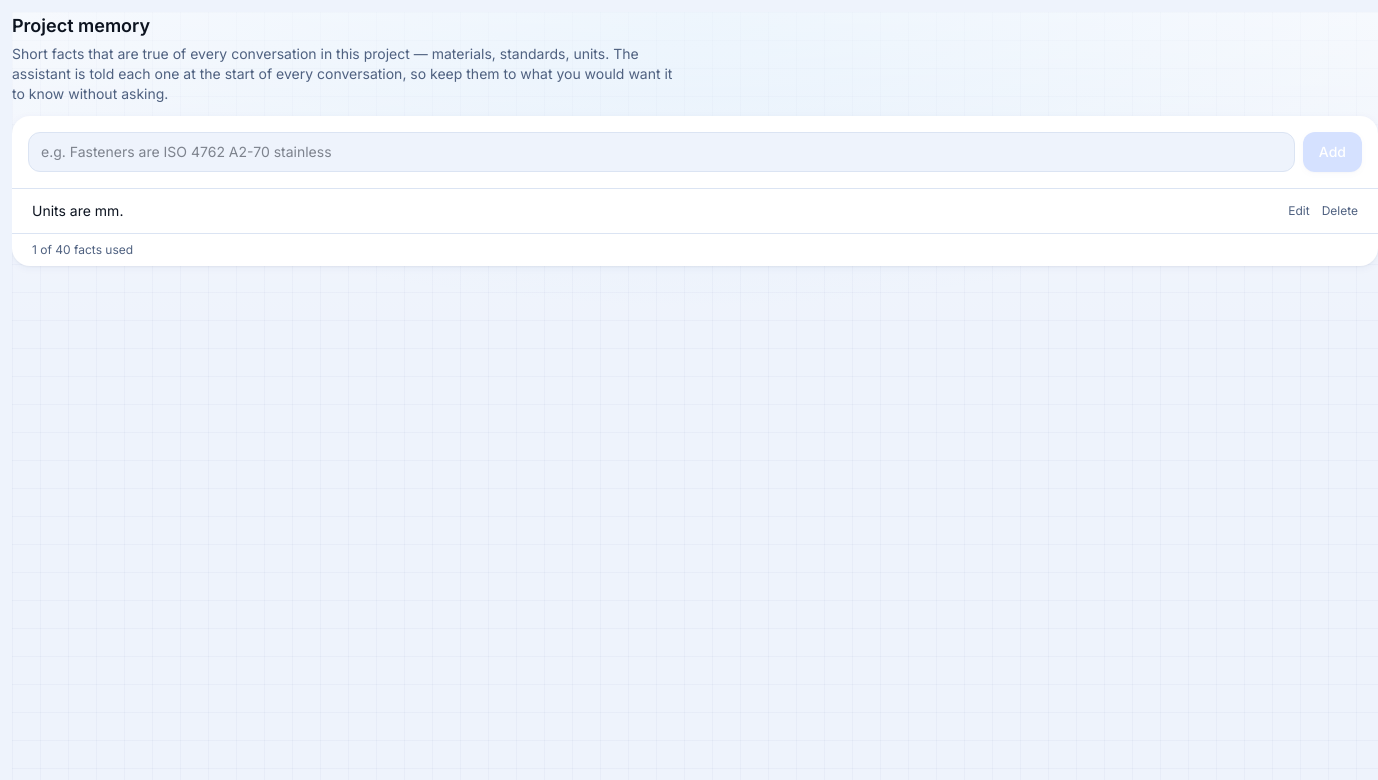
Test case: ProjectMemoryPanel › keeps what was typed and says why when the server refuses
Expected: the text "Units are mm." is shown, [32,202,123,219]
Type "One too many" into the field named "New project fact".
click(661, 152); type("One too many")  # box [28,132,1295,172]
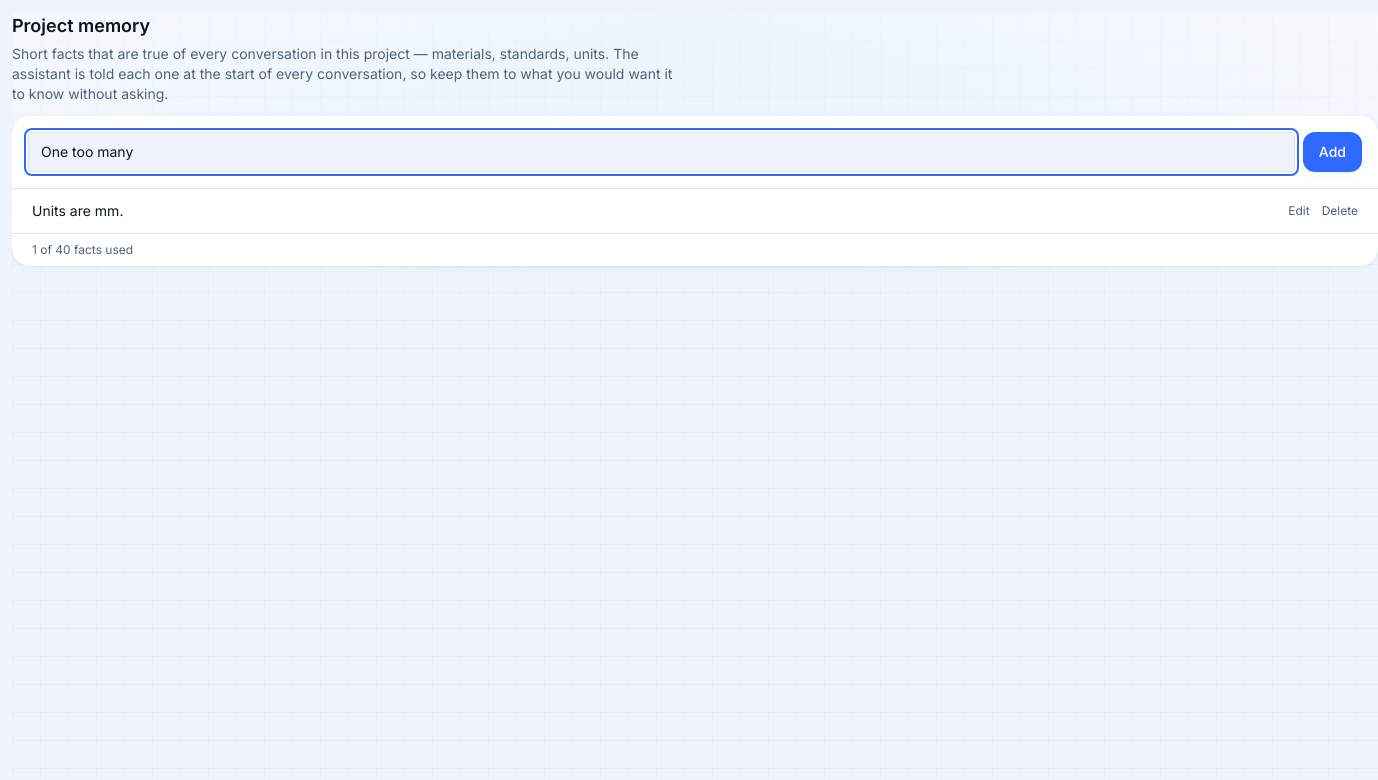
Click the button "Add".
click(1332, 152)  # box [1303,132,1362,172]
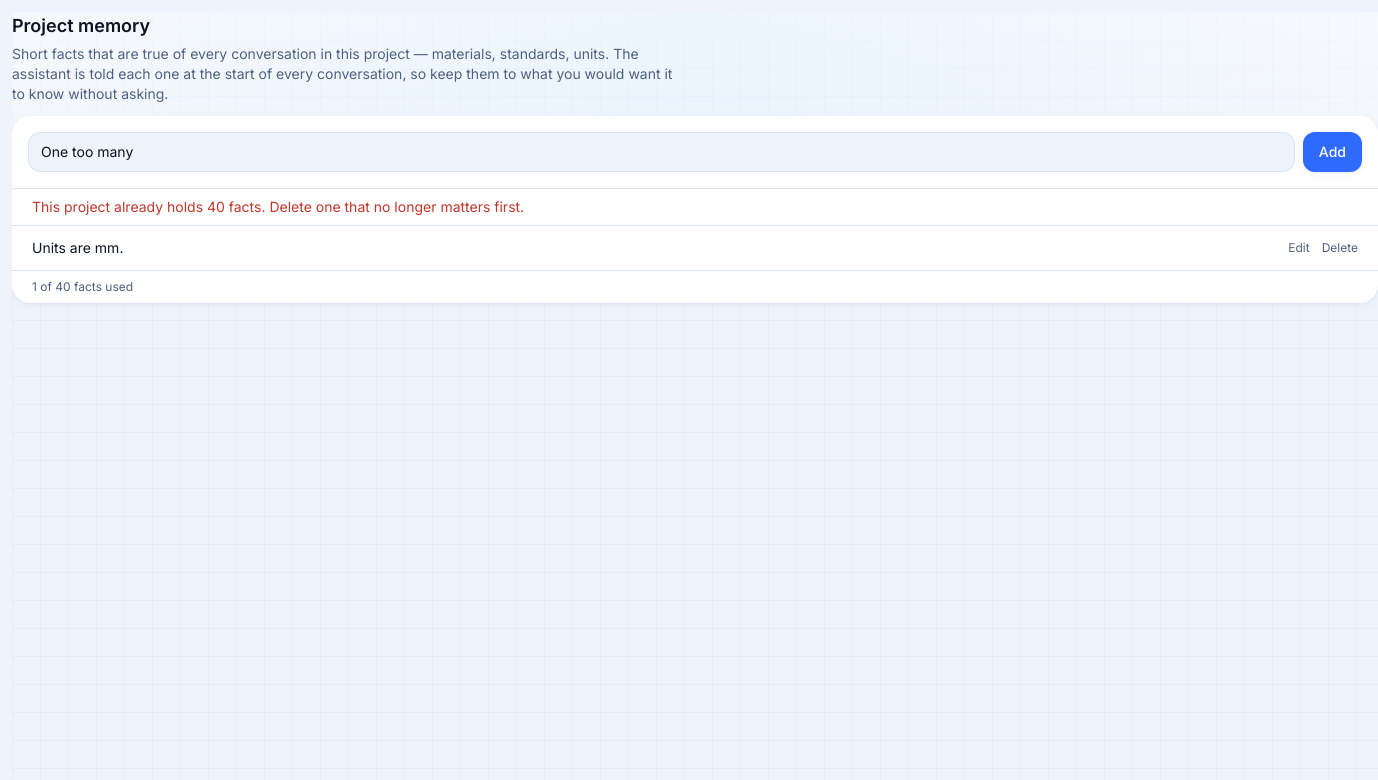
Expected: the message shows "already holds 40 facts", [32,198,524,215]
